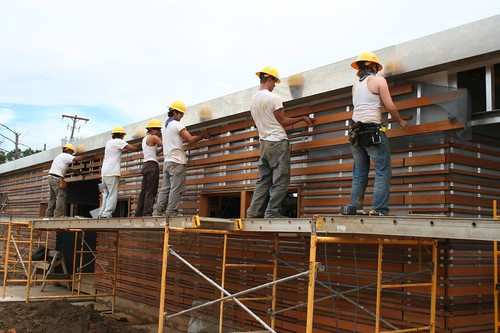person hardhat: (348, 51, 403, 219), (252, 68, 307, 216), (163, 100, 194, 218), (102, 127, 137, 216), (48, 141, 84, 217), (142, 117, 163, 216)
